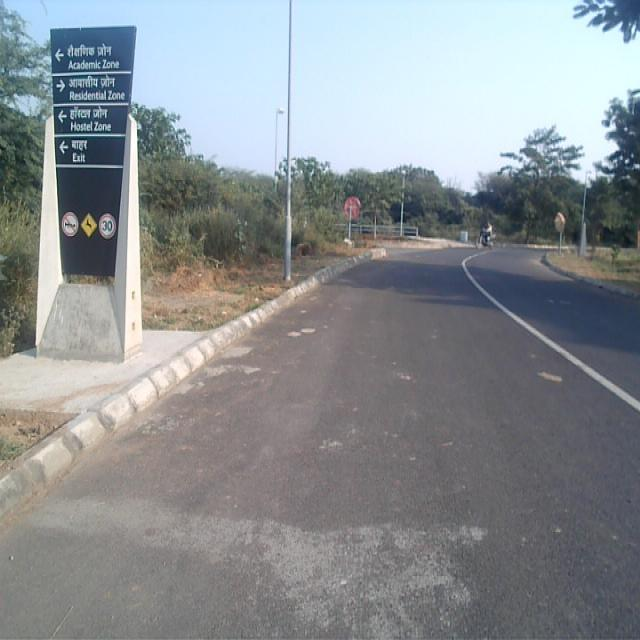lane: (1, 248, 640, 640)
